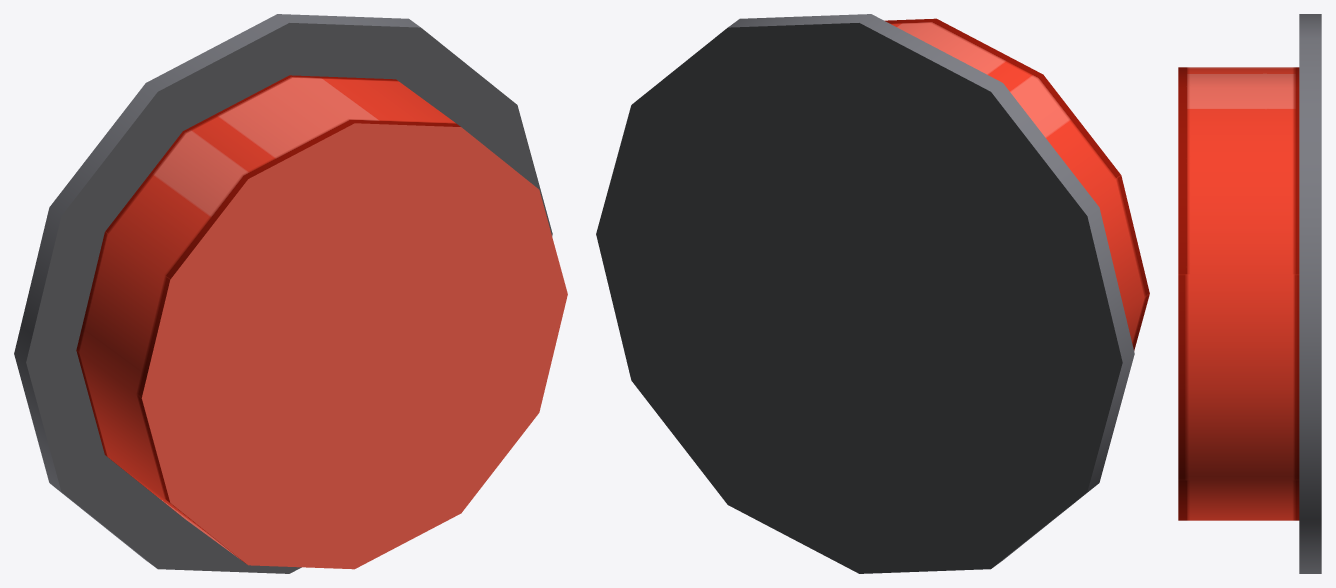
The model's file is role_tntboxswitch_01.FBX.
3 views of the same model, side by side, from view 1: azimuth 30°, elevation 25°; view 2: azimuth 150°, elevation 25°; view 3: azimuth 270°, elevation 25° (orthographic). The views are drawn at different scales.
Parts seen in each view (by area): view 1: role_tntboxswitch_01; view 2: role_tntboxswitch_01; view 3: role_tntboxswitch_01.
Boxes of the visible parts, left/top/right/bottom form: role_tntboxswitch_01: left=14, top=14, right=567, bottom=573; role_tntboxswitch_01: left=596, top=14, right=1149, bottom=573; role_tntboxswitch_01: left=1178, top=14, right=1321, bottom=573.
Size of the model in its own units: 4.96 by 4.96 by 1.26.
Materials: 1 (1 with a texture image).
